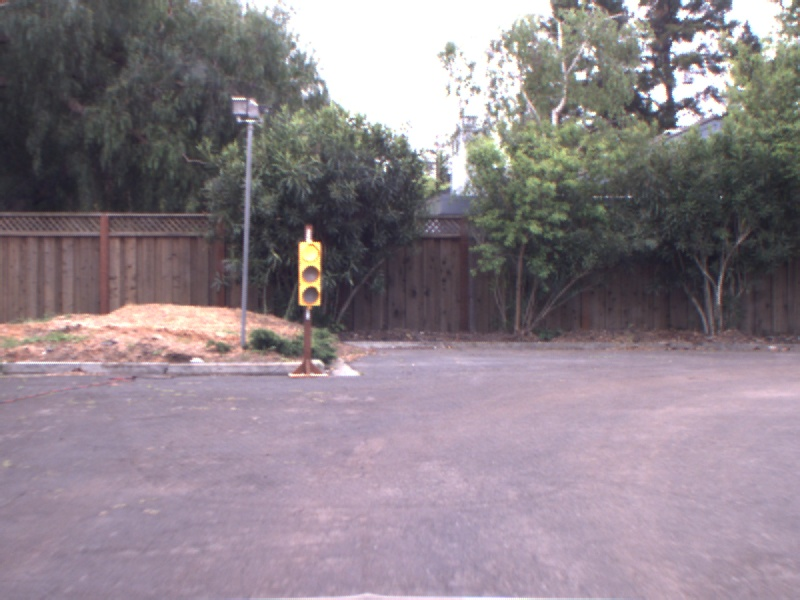red: (295, 236, 324, 308)
